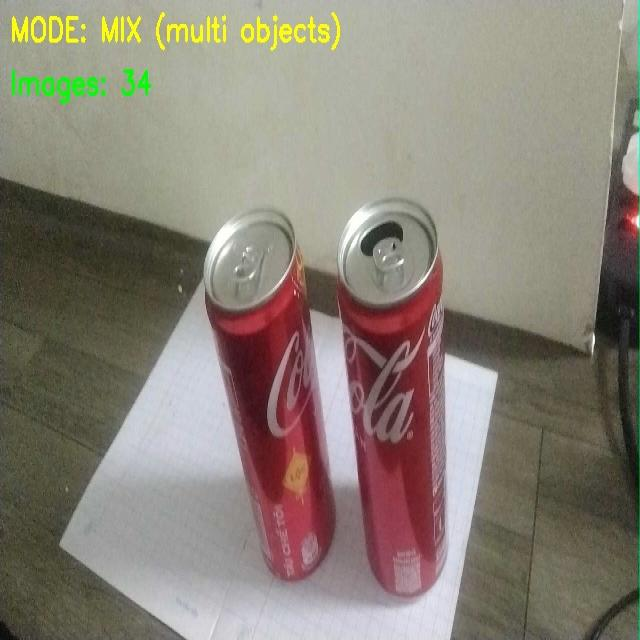Coca: (188, 162, 342, 589)
Coca_open: (334, 163, 495, 610)
